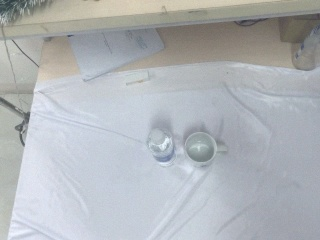bottle: (288, 21, 320, 70), (145, 128, 177, 168)
cup: (184, 132, 228, 168)
